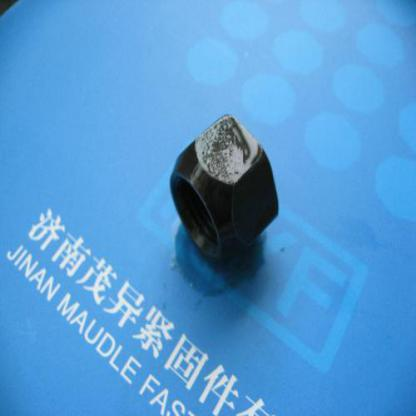FOD: (167, 110, 280, 272)
